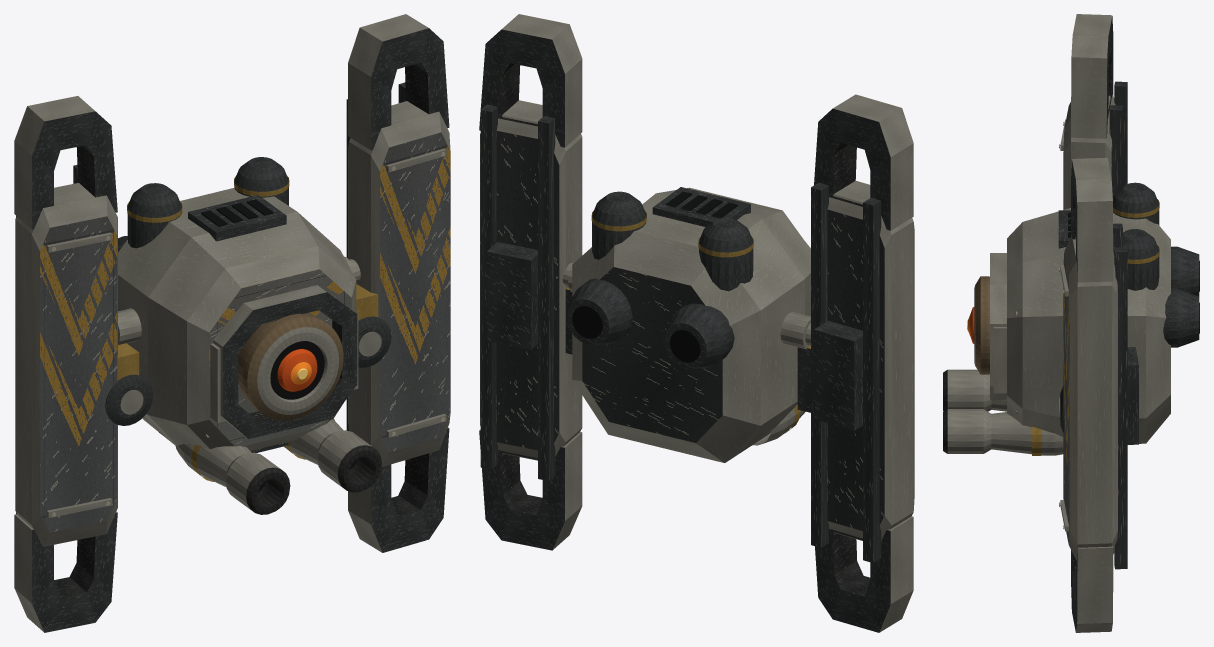
Rendered from TwinShieldDrone.obj.
The picture shows the model from 3 angles, left to right: view 1: azimuth 30°, elevation 25°; view 2: azimuth 150°, elevation 25°; view 3: azimuth 270°, elevation 25°; orthographic projection. The views are drawn at different scales.
Parts seen in each view (by area): view 1: TwinShieldDrone; view 2: TwinShieldDrone; view 3: TwinShieldDrone.
Part boxes in pixels (<box>): TwinShieldDrone: <box>14,14,450,632</box>; TwinShieldDrone: <box>479,14,914,632</box>; TwinShieldDrone: <box>943,14,1199,632</box>.
Bounding box in the file's own units: 2.73 × 3.2 × 1.64.
Materials: 1 (1 with a texture image).
